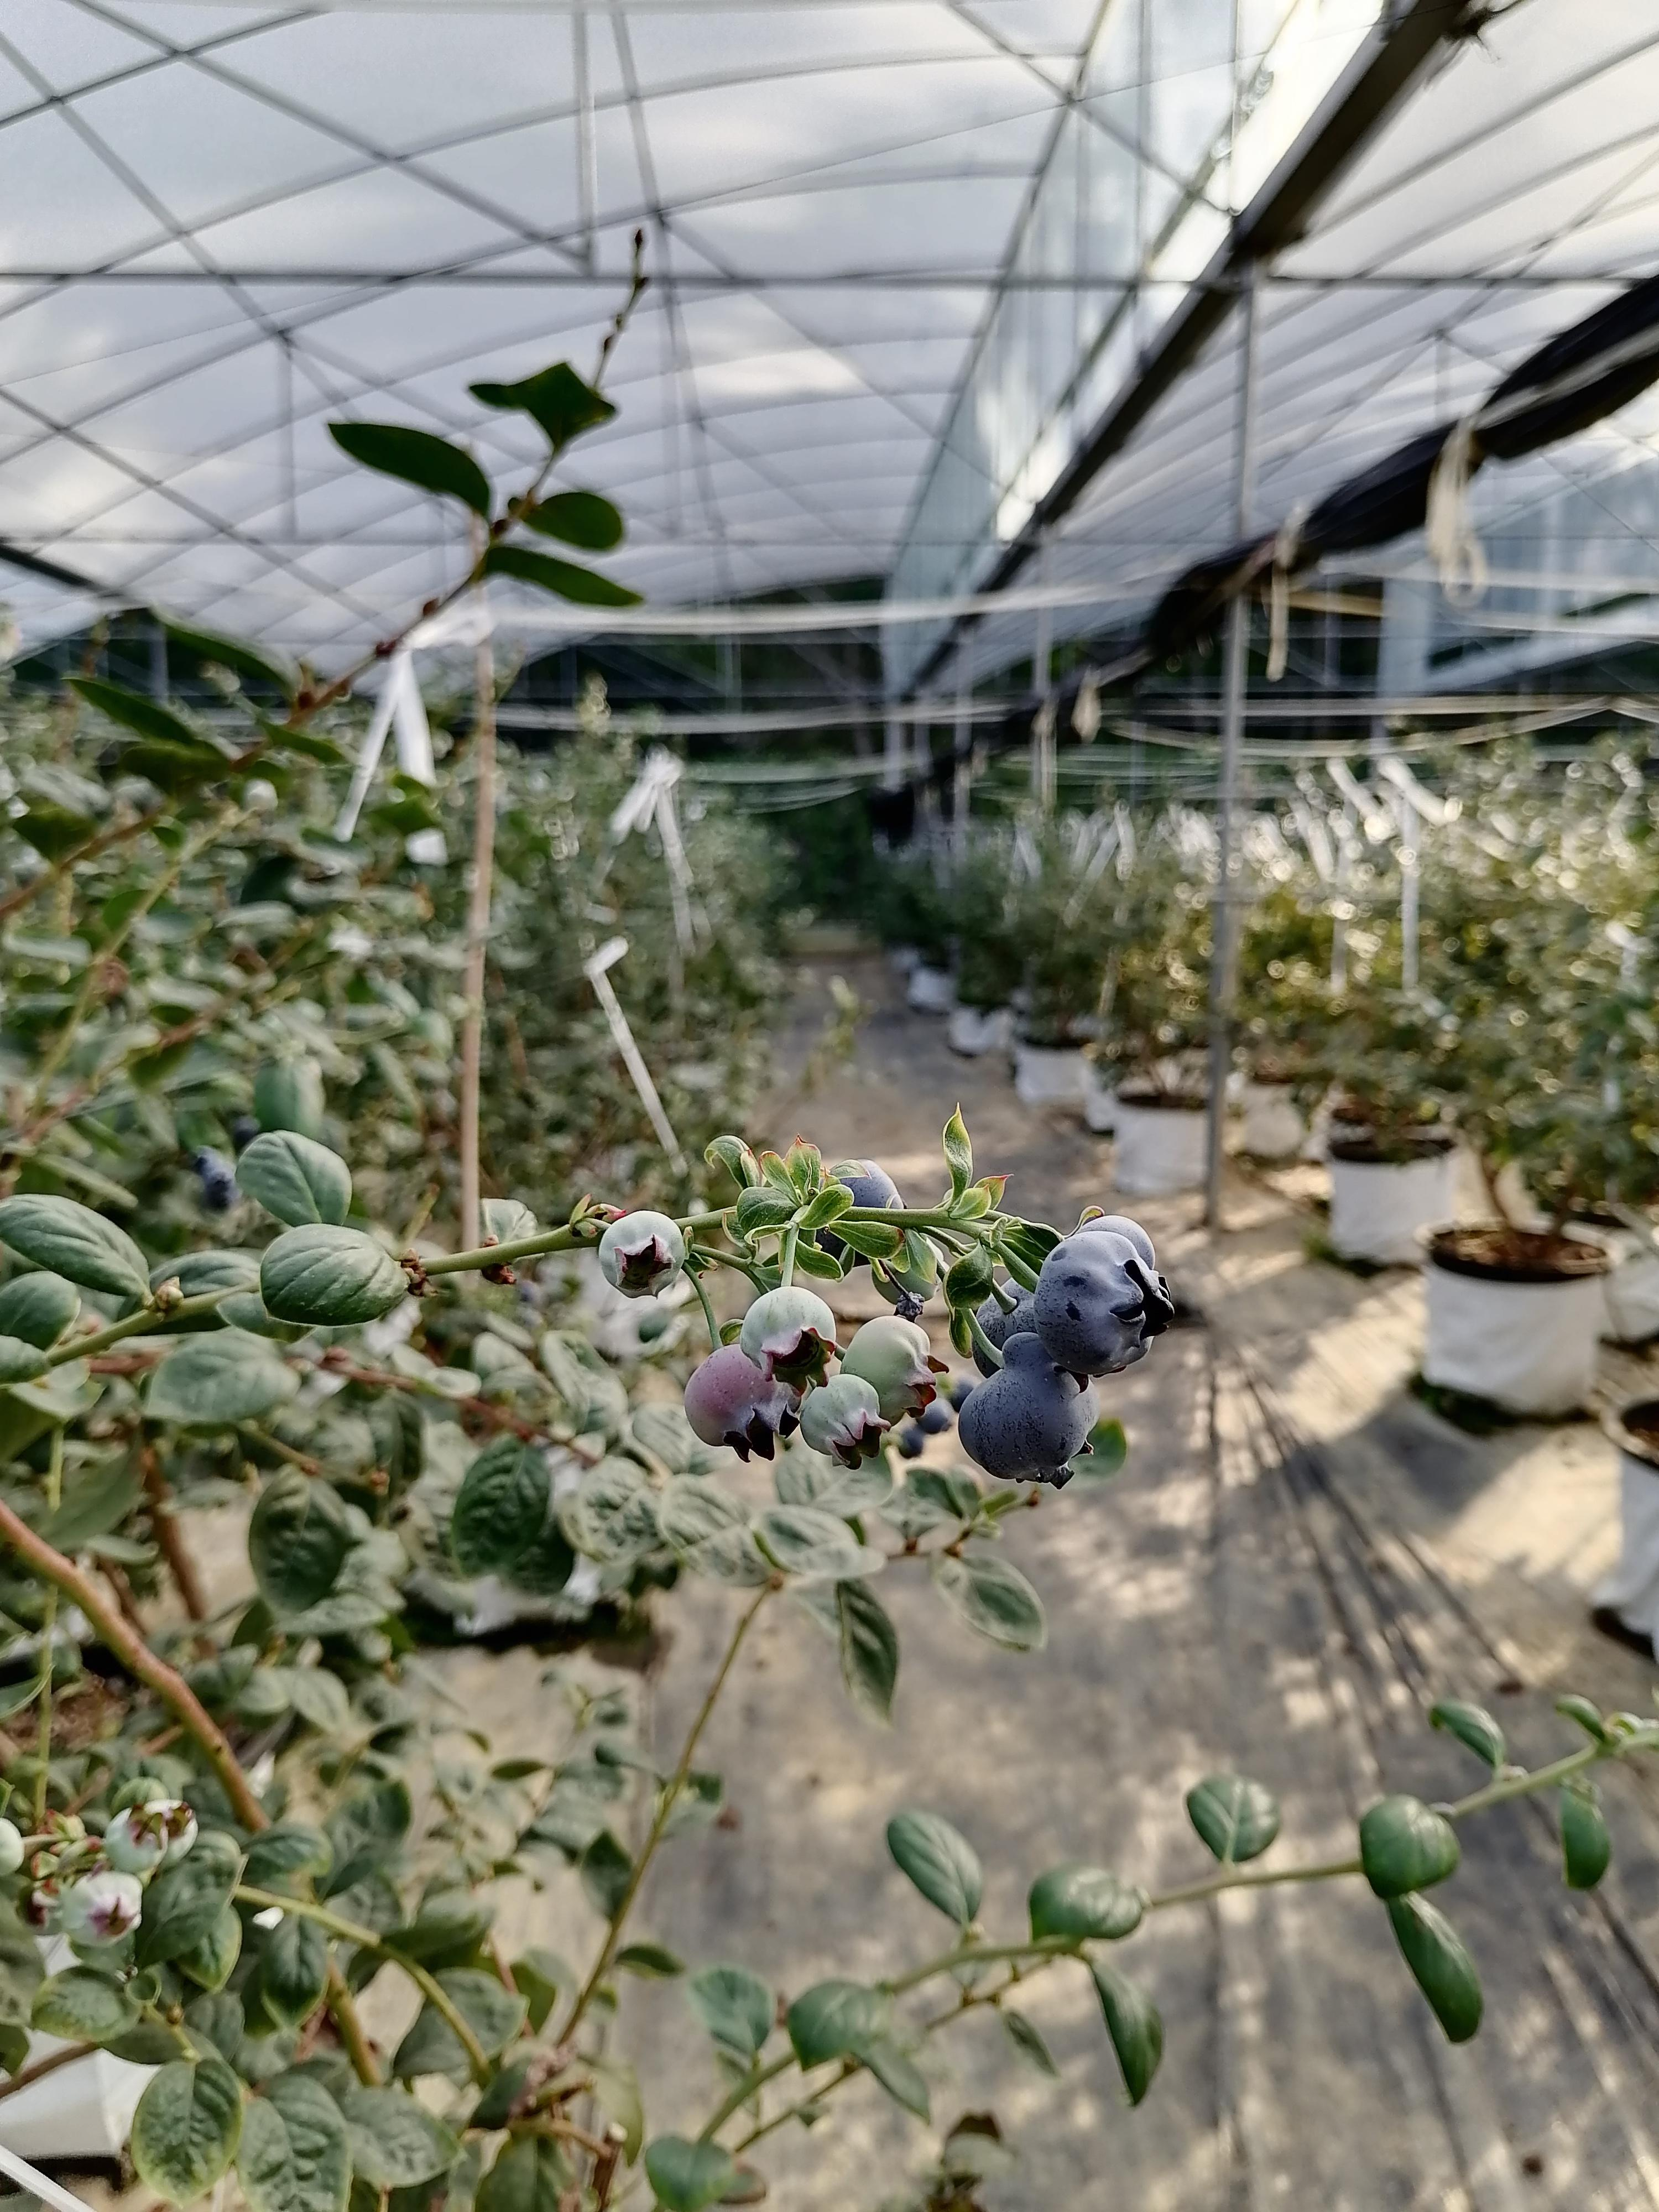ripe-blueberries: (955, 1332, 1101, 1493), (1033, 1228, 1173, 1378), (974, 1280, 1030, 1374)
